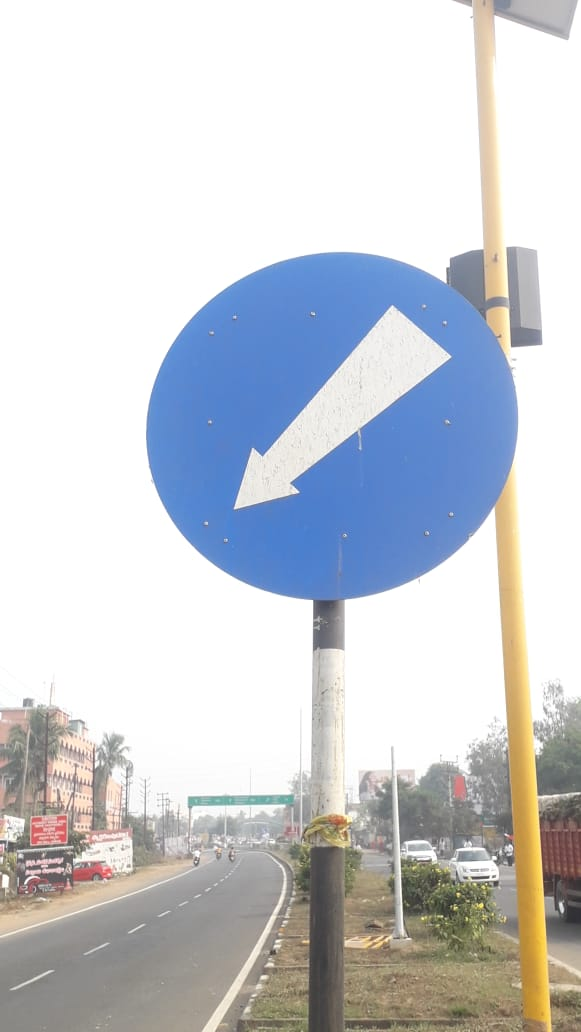go left: (131, 226, 524, 642)
